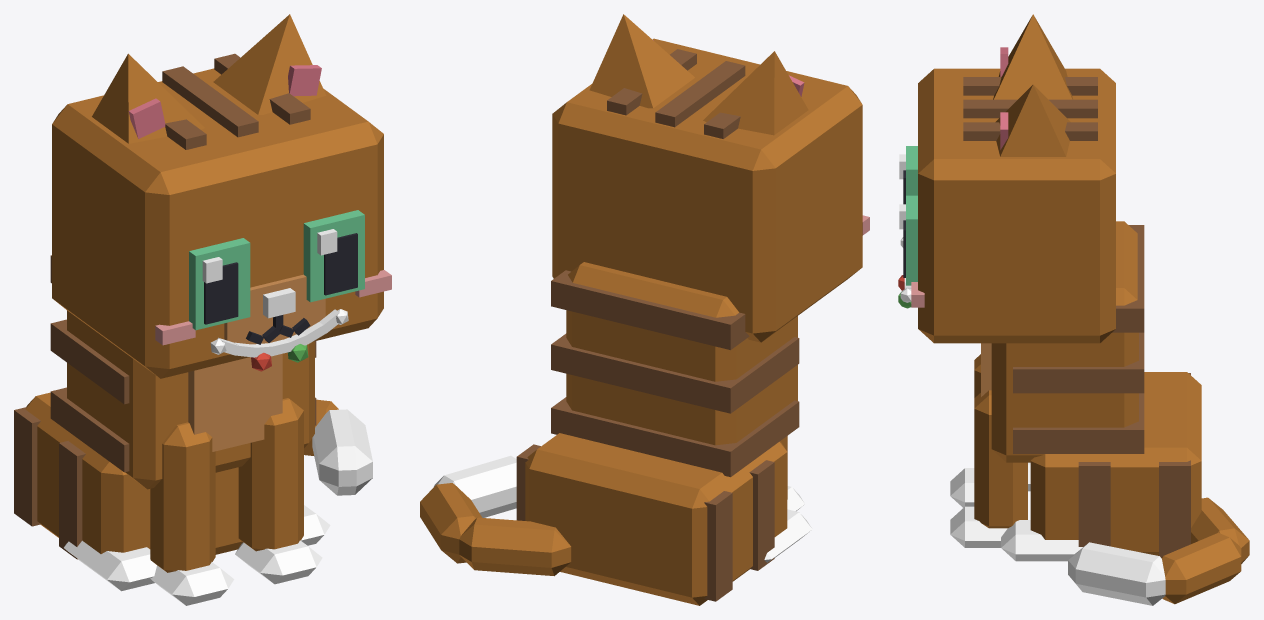
The model's file is CatCafe_Cat_Gingerbread_Sit.glb.
The picture shows the model from 3 angles, left to right: view 1: azimuth 30°, elevation 25°; view 2: azimuth 150°, elevation 25°; view 3: azimuth 270°, elevation 25°; orthographic projection. The views are drawn at different scales.
Visible parts, largest first — view 1: CatCafe_Cat_Gingerbread_Sit_Head, CatCafe_Cat_Gingerbread_Sit_Body, CatCafe_Cat_Gingerbread_Sit_LegF2, CatCafe_Cat_Gingerbread_Sit_LegF1, CatCafe_Cat_Gingerbread_Sit_EarL, CatCafe_Cat_Gingerbread_Sit_Eye2, CatCafe_Cat_Gingerbread_Sit_Eye1, CatCafe_Cat_Gingerbread_Sit_EarR, CatCafe_Cat_Gingerbread_Sit_Tail, CatCafe_Cat_Gingerbread_Sit_Prop; view 2: CatCafe_Cat_Gingerbread_Sit_Body, CatCafe_Cat_Gingerbread_Sit_Head, CatCafe_Cat_Gingerbread_Sit_Tail, CatCafe_Cat_Gingerbread_Sit_EarL, CatCafe_Cat_Gingerbread_Sit_EarR; view 3: CatCafe_Cat_Gingerbread_Sit_Head, CatCafe_Cat_Gingerbread_Sit_Body, CatCafe_Cat_Gingerbread_Sit_Tail, CatCafe_Cat_Gingerbread_Sit_LegF1, CatCafe_Cat_Gingerbread_Sit_EarL, CatCafe_Cat_Gingerbread_Sit_EarR, CatCafe_Cat_Gingerbread_Sit_Eye1, CatCafe_Cat_Gingerbread_Sit_LegF2, CatCafe_Cat_Gingerbread_Sit_Eye2.
Part boxes in pixels (x1,y1,x2,y2): CatCafe_Cat_Gingerbread_Sit_Head: [52, 53, 391, 378]; CatCafe_Cat_Gingerbread_Sit_Body: [14, 255, 330, 591]; CatCafe_Cat_Gingerbread_Sit_LegF2: [150, 422, 234, 605]; CatCafe_Cat_Gingerbread_Sit_LegF1: [235, 398, 322, 584]; CatCafe_Cat_Gingerbread_Sit_EarL: [213, 14, 326, 114]; CatCafe_Cat_Gingerbread_Sit_Eye2: [189, 238, 250, 330]; CatCafe_Cat_Gingerbread_Sit_Eye1: [303, 210, 364, 302]; CatCafe_Cat_Gingerbread_Sit_EarR: [92, 53, 204, 143]; CatCafe_Cat_Gingerbread_Sit_Tail: [304, 399, 372, 495]; CatCafe_Cat_Gingerbread_Sit_Prop: [210, 309, 348, 371]; CatCafe_Cat_Gingerbread_Sit_Body: [516, 262, 812, 605]; CatCafe_Cat_Gingerbread_Sit_Head: [552, 38, 869, 342]; CatCafe_Cat_Gingerbread_Sit_Tail: [420, 455, 571, 576]; CatCafe_Cat_Gingerbread_Sit_EarL: [589, 14, 694, 108]; CatCafe_Cat_Gingerbread_Sit_EarR: [703, 51, 808, 135]; CatCafe_Cat_Gingerbread_Sit_Head: [911, 68, 1115, 343]; CatCafe_Cat_Gingerbread_Sit_Body: [981, 221, 1201, 561]; CatCafe_Cat_Gingerbread_Sit_Tail: [1068, 497, 1249, 605]; CatCafe_Cat_Gingerbread_Sit_LegF1: [950, 390, 1027, 547]; CatCafe_Cat_Gingerbread_Sit_EarL: [995, 84, 1070, 156]; CatCafe_Cat_Gingerbread_Sit_EarR: [993, 14, 1072, 99]; CatCafe_Cat_Gingerbread_Sit_Eye1: [899, 195, 917, 285]; CatCafe_Cat_Gingerbread_Sit_LegF2: [950, 354, 980, 507]; CatCafe_Cat_Gingerbread_Sit_Eye2: [899, 146, 917, 204].
Bounding box in the file's own units: 1.24 × 1.85 × 1.25.
Materials: 1 (1 with a texture image).
